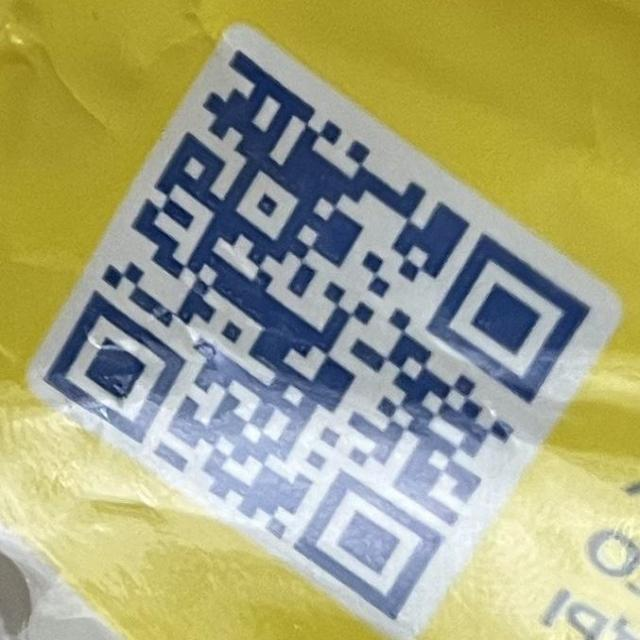QR_CODE: (44, 49, 590, 620)
